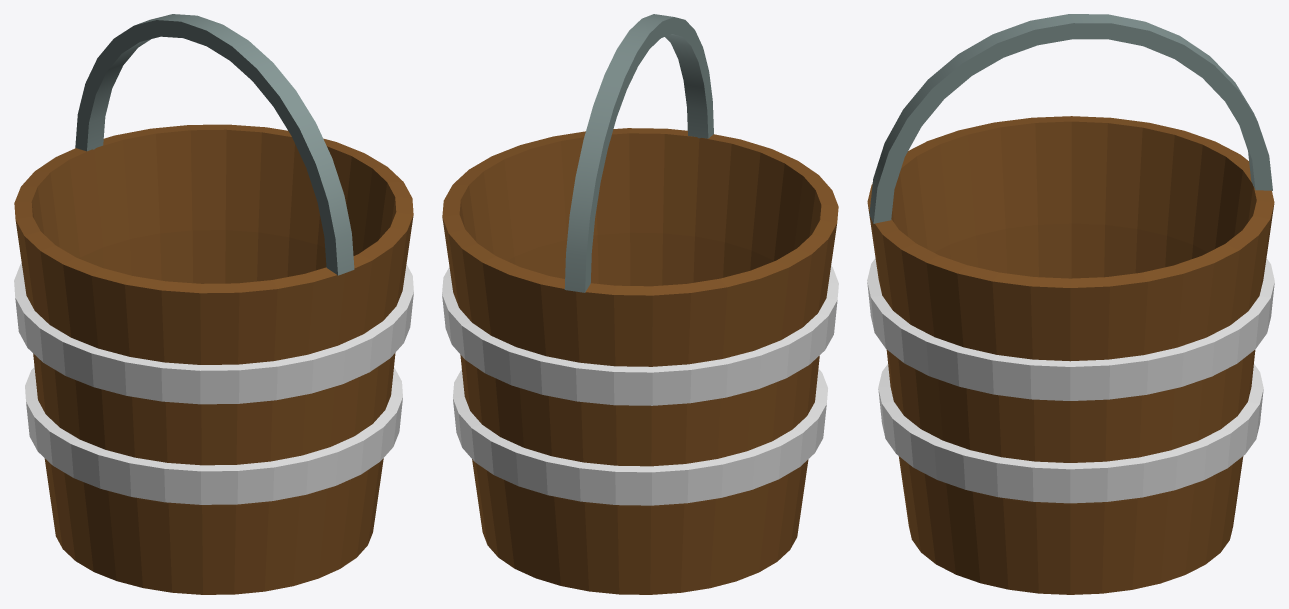
File: baskom.fbx
3 renders of one model, left to right at view 1: azimuth 30°, elevation 25°; view 2: azimuth 150°, elevation 25°; view 3: azimuth 270°, elevation 25°, orthographic. The views are drawn at different scales.
Visible parts, largest first — view 1: Baskom, Circle.012, Circle.013; view 2: Baskom, Circle.012, Circle.013; view 3: Baskom, Circle.012, Circle.013.
Boxes of the visible parts, box(x1,y1,x2,y2) form: Baskom: box(14, 124, 413, 594); Circle.012: box(14, 263, 413, 504); Circle.013: box(75, 14, 354, 275); Baskom: box(442, 128, 838, 594); Circle.012: box(442, 265, 838, 505); Circle.013: box(564, 14, 713, 292); Baskom: box(867, 116, 1274, 594); Circle.012: box(867, 258, 1274, 503); Circle.013: box(869, 14, 1272, 223).
Size of the model in its own units: 341 by 469 by 341.
